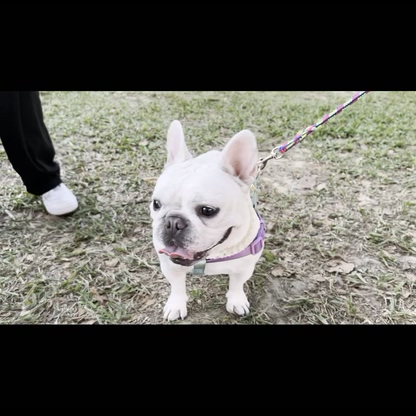bulldog: (147, 118, 269, 322)
